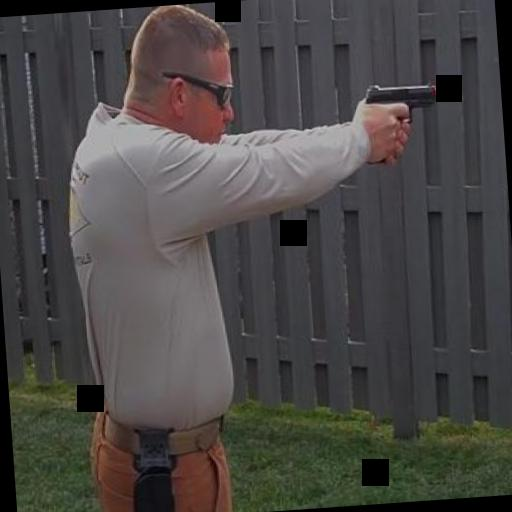Handgun: (351, 80, 446, 168)
